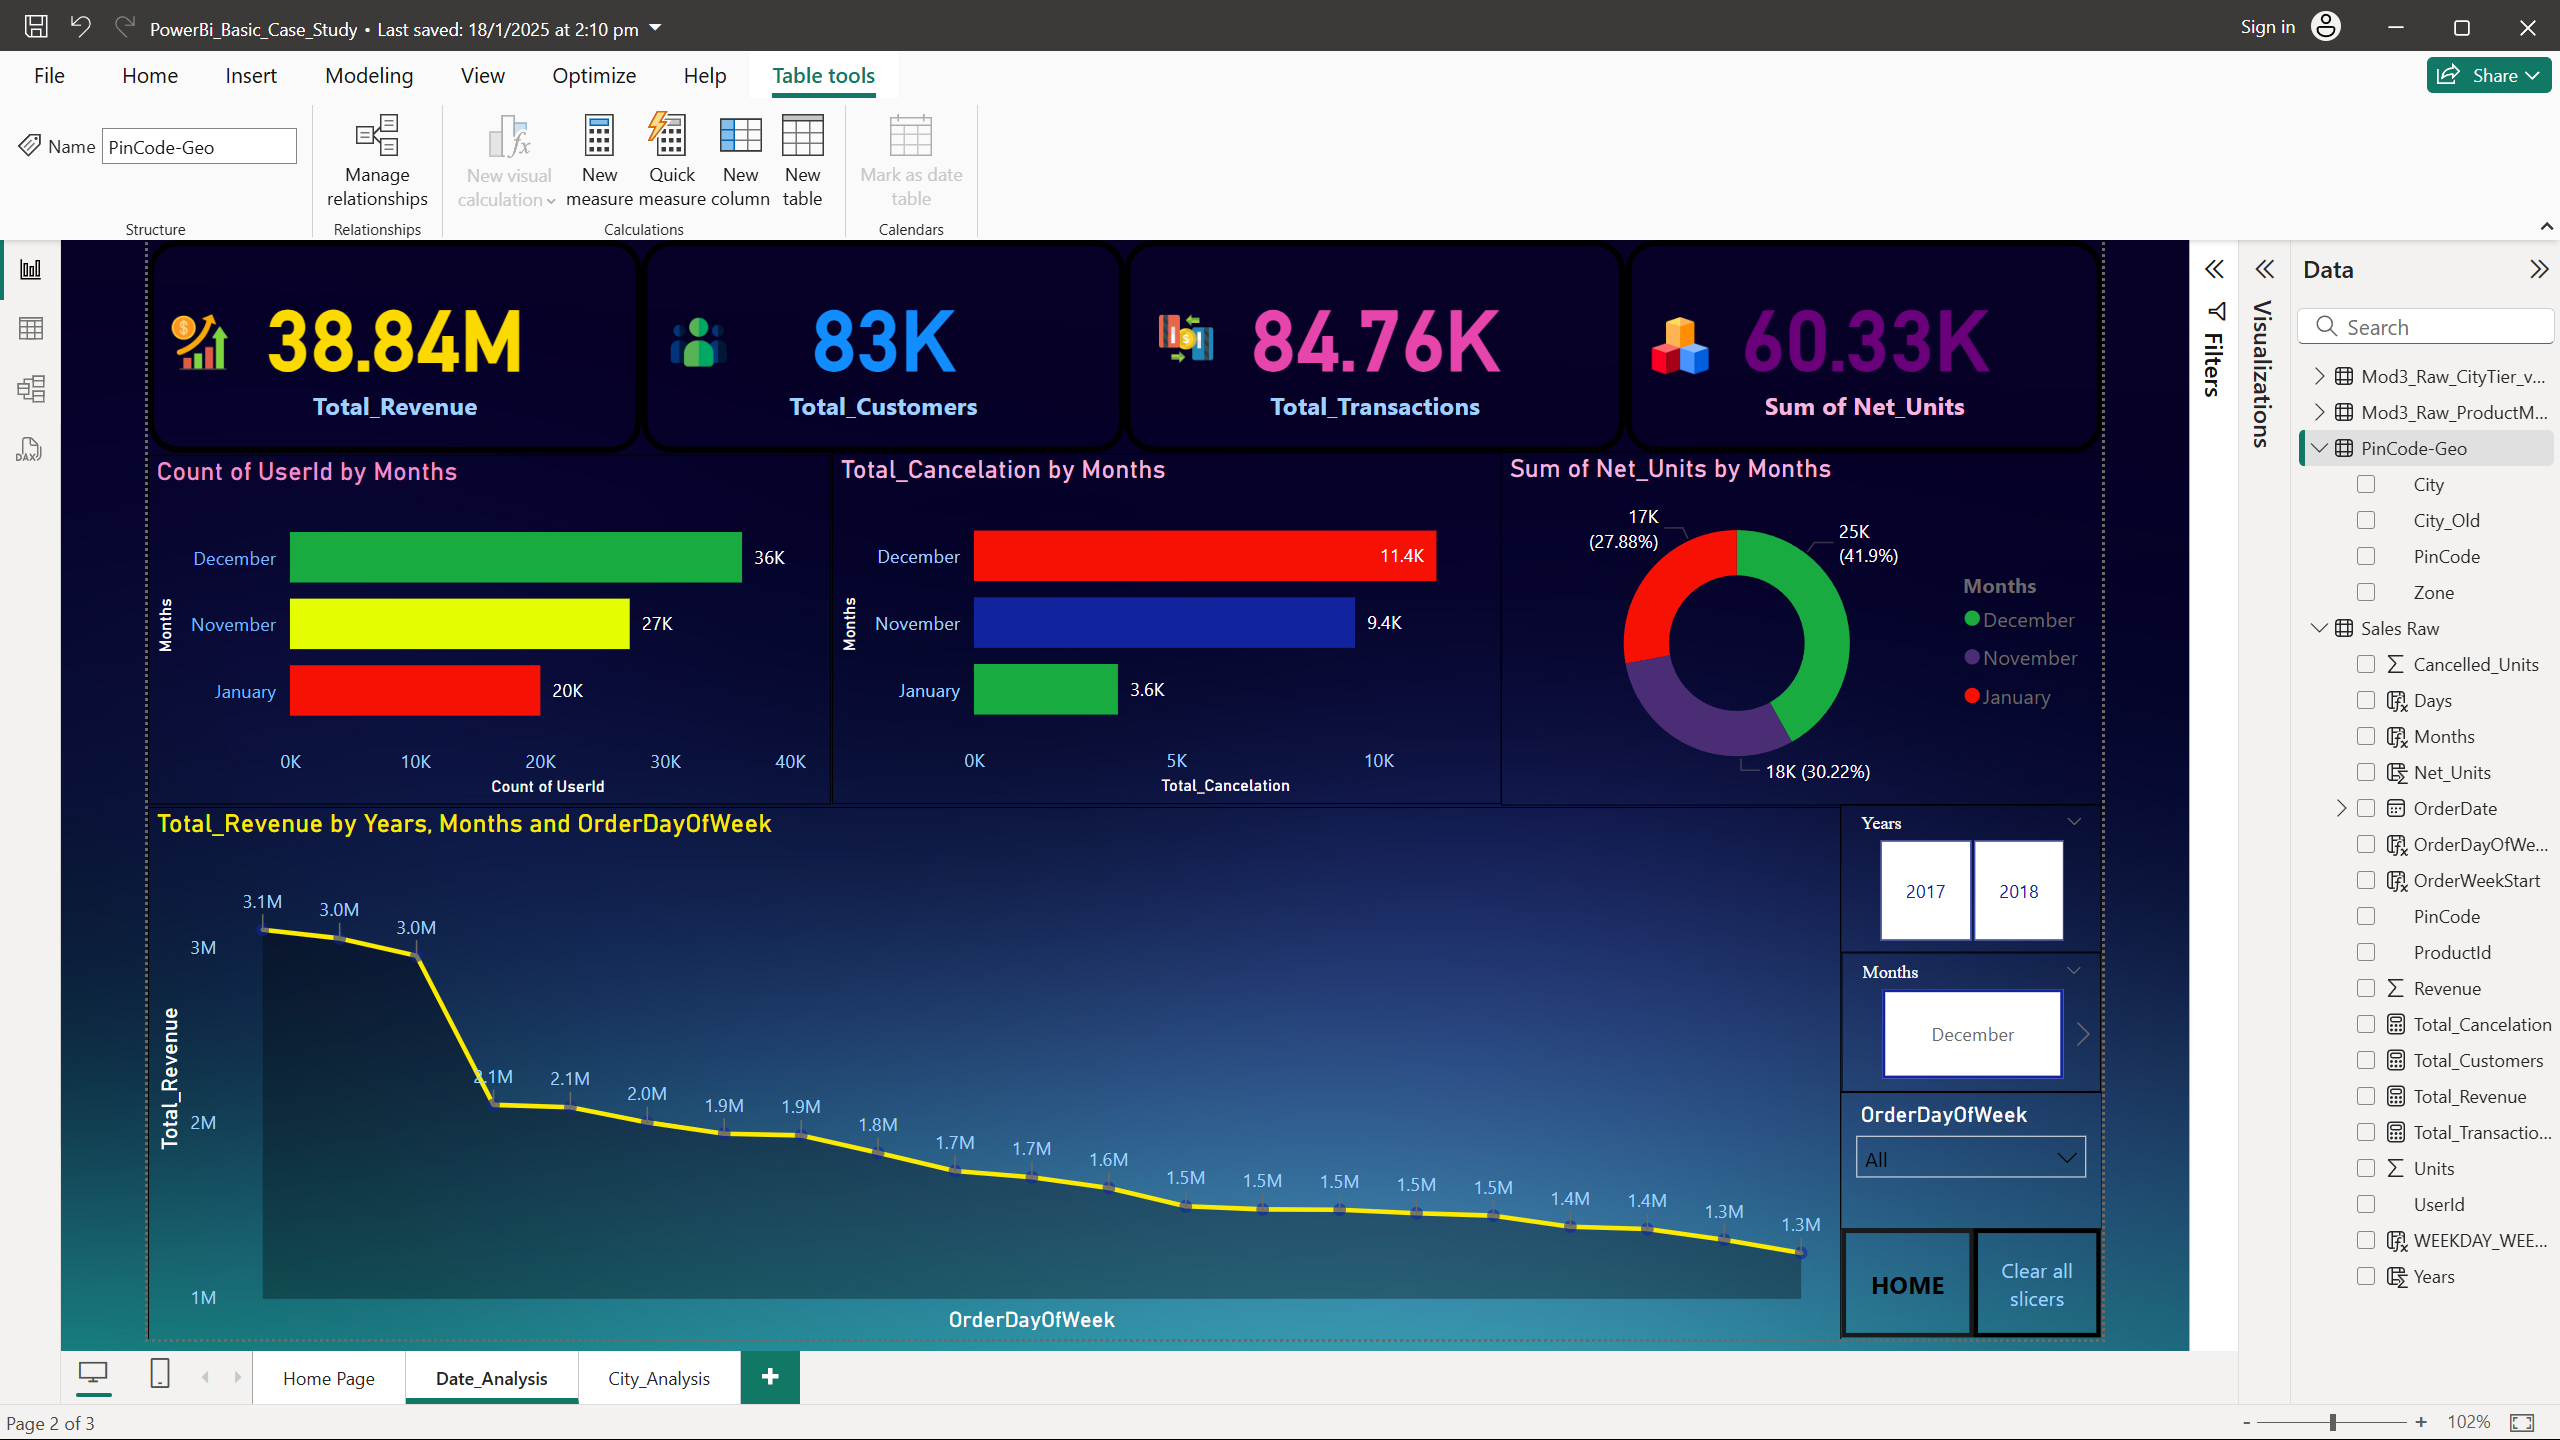

The page's visual inventory and layout, read from the dashboard file:
{"tool":"powerbi","page":{"name":"Date_Analysis","canvas":[1280,720],"ordinal":1},"visuals":[{"type":"card","fields":{"Values":["Sales Raw.Total_Revenue"]},"box":[0,0,323.3,139],"z":0},{"type":"card","fields":{"Values":["Sales Raw.Total_Customers"]},"box":[323.3,0,316.3,139],"z":1000},{"type":"card","fields":{"Values":["Sales Raw.Total_Transactions"]},"box":[639.6,0,327.9,139],"z":2000},{"type":"card","fields":{"Values":["Sum(Sales Raw.New_Units)"]},"box":[967.5,0,312.9,139],"z":3000},{"type":"clusteredBarChart","fields":{"Category":["Sales Raw.Months"],"Y":["CountNonNull(Sales Raw.UserId)"]},"box":[0,140.2,447.3,229.4],"z":4000},{"type":"clusteredBarChart","fields":{"Y":["Sales Raw.Total_Cancelation"],"Category":["Sales Raw.Months"]},"box":[447.8,139.9,438.9,229.7],"z":5000},{"type":"donutChart","fields":{"Category":["Sales Raw.Months"],"Y":["Sum(Sales Raw.Net_Units)"]},"box":[886.4,139,394,231.7],"z":6000},{"type":"areaChart","fields":{"Y":["Sales Raw.Total_Revenue"],"Category":["Sales Raw.Years","Sales Raw.Months","Sales Raw.OrderDayOfWeek"]},"box":[0,371.2,1109.2,349.2],"z":7000},{"type":"slicer","fields":{"Values":["Sales Raw.Years"]},"box":[1108.9,369.6,171.5,97.3],"z":8000},{"type":"slicer","fields":{"Values":["Sales Raw.Months"]},"box":[1109.2,466.8,170.2,91.2],"z":9000},{"type":"slicer","fields":{"Values":["Sales Raw.OrderDayOfWeek"]},"box":[1108.7,558.2,172,89.8],"z":10000},{"type":"actionButton","box":[1109.2,648,86.8,71.4],"z":11000},{"type":"actionButton","box":[1196,648,83.5,71.4],"z":12000},{"type":"image","box":[8.8,42.9,50.5,46.7],"z":13000},{"type":"image","box":[333.1,42.9,55.5,46.7],"z":14000},{"type":"image","box":[656.1,40.4,46.7,49.2],"z":15000},{"type":"image","box":[977.8,45.4,51.7,47.9],"z":16000}]}

Visuals, with their boxes on the page's 1280x720 design canvas (x1, y1, x2, y2). These are canvas units, not pixel positions in the 2560x1440 screenshot, which may show the page scaled, cropped or inside an application window:
card - Sales Raw.Total_Revenue: rect(0, 0, 323, 139)
card - Sales Raw.Total_Customers: rect(323, 0, 640, 139)
card - Sales Raw.Total_Transactions: rect(640, 0, 968, 139)
card - Sum(Sales Raw.New_Units): rect(968, 0, 1280, 139)
clusteredBarChart - Sales Raw.Months x CountNonNull(Sales Raw.UserId): rect(0, 140, 447, 370)
clusteredBarChart - Sales Raw.Total_Cancelation x Sales Raw.Months: rect(448, 140, 887, 370)
donutChart - Sales Raw.Months x Sum(Sales Raw.Net_Units): rect(886, 139, 1280, 371)
areaChart - Sales Raw.Total_Revenue x Sales Raw.Years: rect(0, 371, 1109, 720)
slicer - Sales Raw.Years: rect(1109, 370, 1280, 467)
slicer - Sales Raw.Months: rect(1109, 467, 1279, 558)
slicer - Sales Raw.OrderDayOfWeek: rect(1109, 558, 1281, 648)
actionButton: rect(1109, 648, 1196, 719)
actionButton: rect(1196, 648, 1280, 719)
image: rect(9, 43, 59, 90)
image: rect(333, 43, 389, 90)
image: rect(656, 40, 703, 90)
image: rect(978, 45, 1030, 93)
